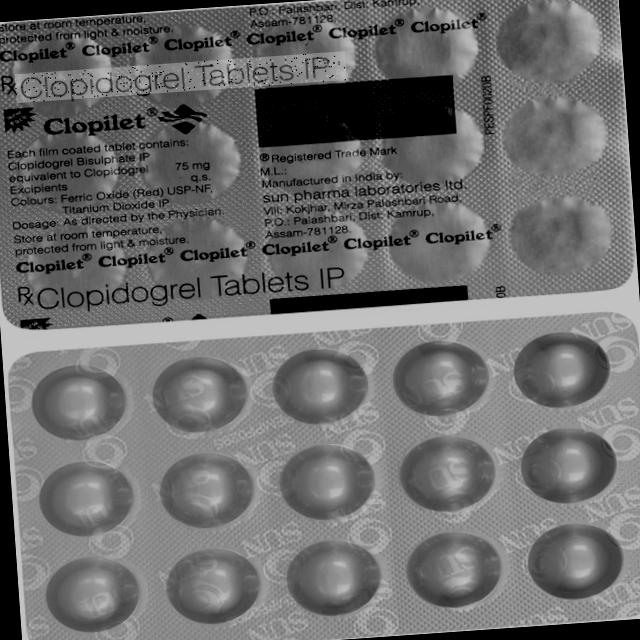Medicine-name: (15, 52, 347, 104)
